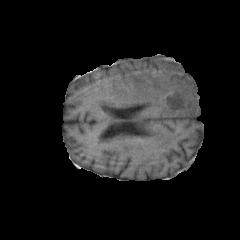glioma: (99, 62, 199, 143)
